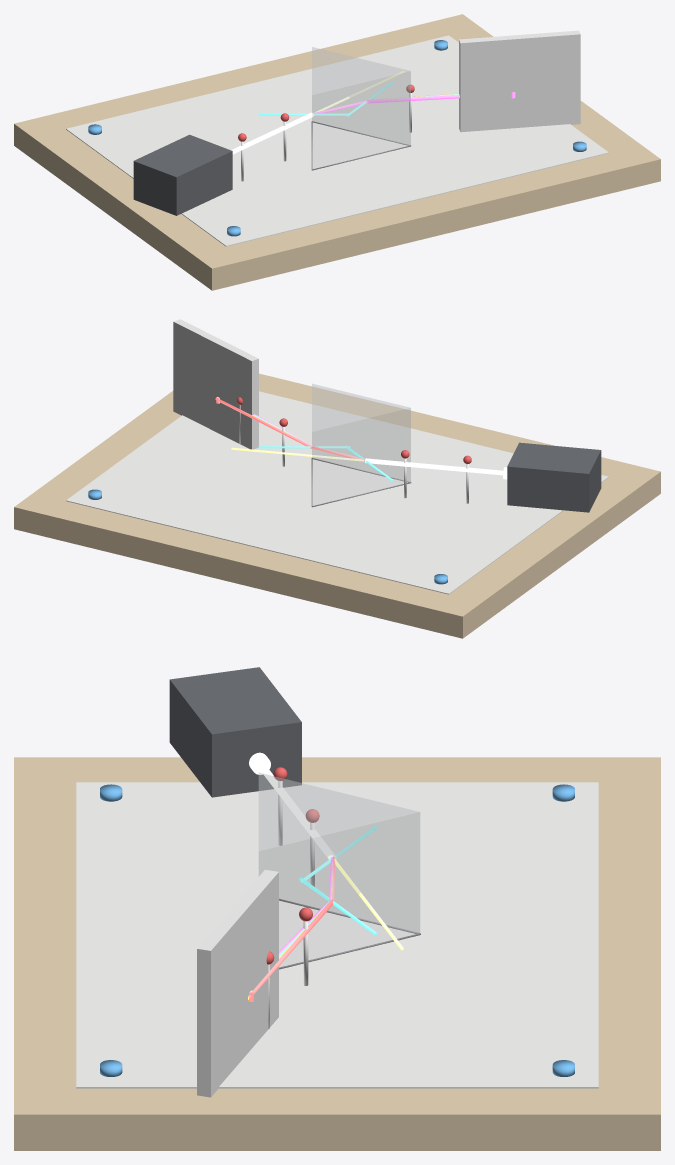
File: glass-prism-refraction.glb
3 renders of one model, top to bottom at view 1: azimuth 30°, elevation 25°; view 2: azimuth 150°, elevation 25°; view 3: azimuth 270°, elevation 25°, orthographic. The views are drawn at different scales.
Visible parts, largest first — view 1: glass-prism-refraction-paper-sheet, glass-prism-refraction-drawing-board, glass-prism-refraction-screen, glass-prism-refraction-glass-prism, glass-prism-refraction-raybox, glass-prism-refraction-ray-incident; view 2: glass-prism-refraction-paper-sheet, glass-prism-refraction-drawing-board, glass-prism-refraction-glass-prism, glass-prism-refraction-screen, glass-prism-refraction-raybox, glass-prism-refraction-ray-incident; view 3: glass-prism-refraction-paper-sheet, glass-prism-refraction-drawing-board, glass-prism-refraction-glass-prism, glass-prism-refraction-raybox, glass-prism-refraction-screen, glass-prism-refraction-ray-incident.
Boxes of the visible parts, <box> form: glass-prism-refraction-paper-sheet: <box>66,35,608,246</box>; glass-prism-refraction-drawing-board: <box>14,14,660,290</box>; glass-prism-refraction-screen: <box>459,30,580,132</box>; glass-prism-refraction-glass-prism: <box>312,47,410,168</box>; glass-prism-refraction-raybox: <box>133,134,232,215</box>; glass-prism-refraction-ray-incident: <box>231,112,313,154</box>; glass-prism-refraction-paper-sheet: <box>66,391,608,594</box>; glass-prism-refraction-drawing-board: <box>14,373,660,638</box>; glass-prism-refraction-glass-prism: <box>312,383,410,505</box>; glass-prism-refraction-screen: <box>173,319,258,449</box>; glass-prism-refraction-raybox: <box>507,442,601,512</box>; glass-prism-refraction-ray-incident: <box>365,458,503,475</box>; glass-prism-refraction-paper-sheet: <box>76,782,598,1088</box>; glass-prism-refraction-drawing-board: <box>14,757,660,1150</box>; glass-prism-refraction-glass-prism: <box>258,772,420,967</box>; glass-prism-refraction-raybox: <box>169,667,301,797</box>; glass-prism-refraction-screen: <box>197,869,278,1097</box>; glass-prism-refraction-ray-incident: <box>258,762,336,859</box>.
Size of the model in its own units: 0.3426 by 0.081 by 0.26.
